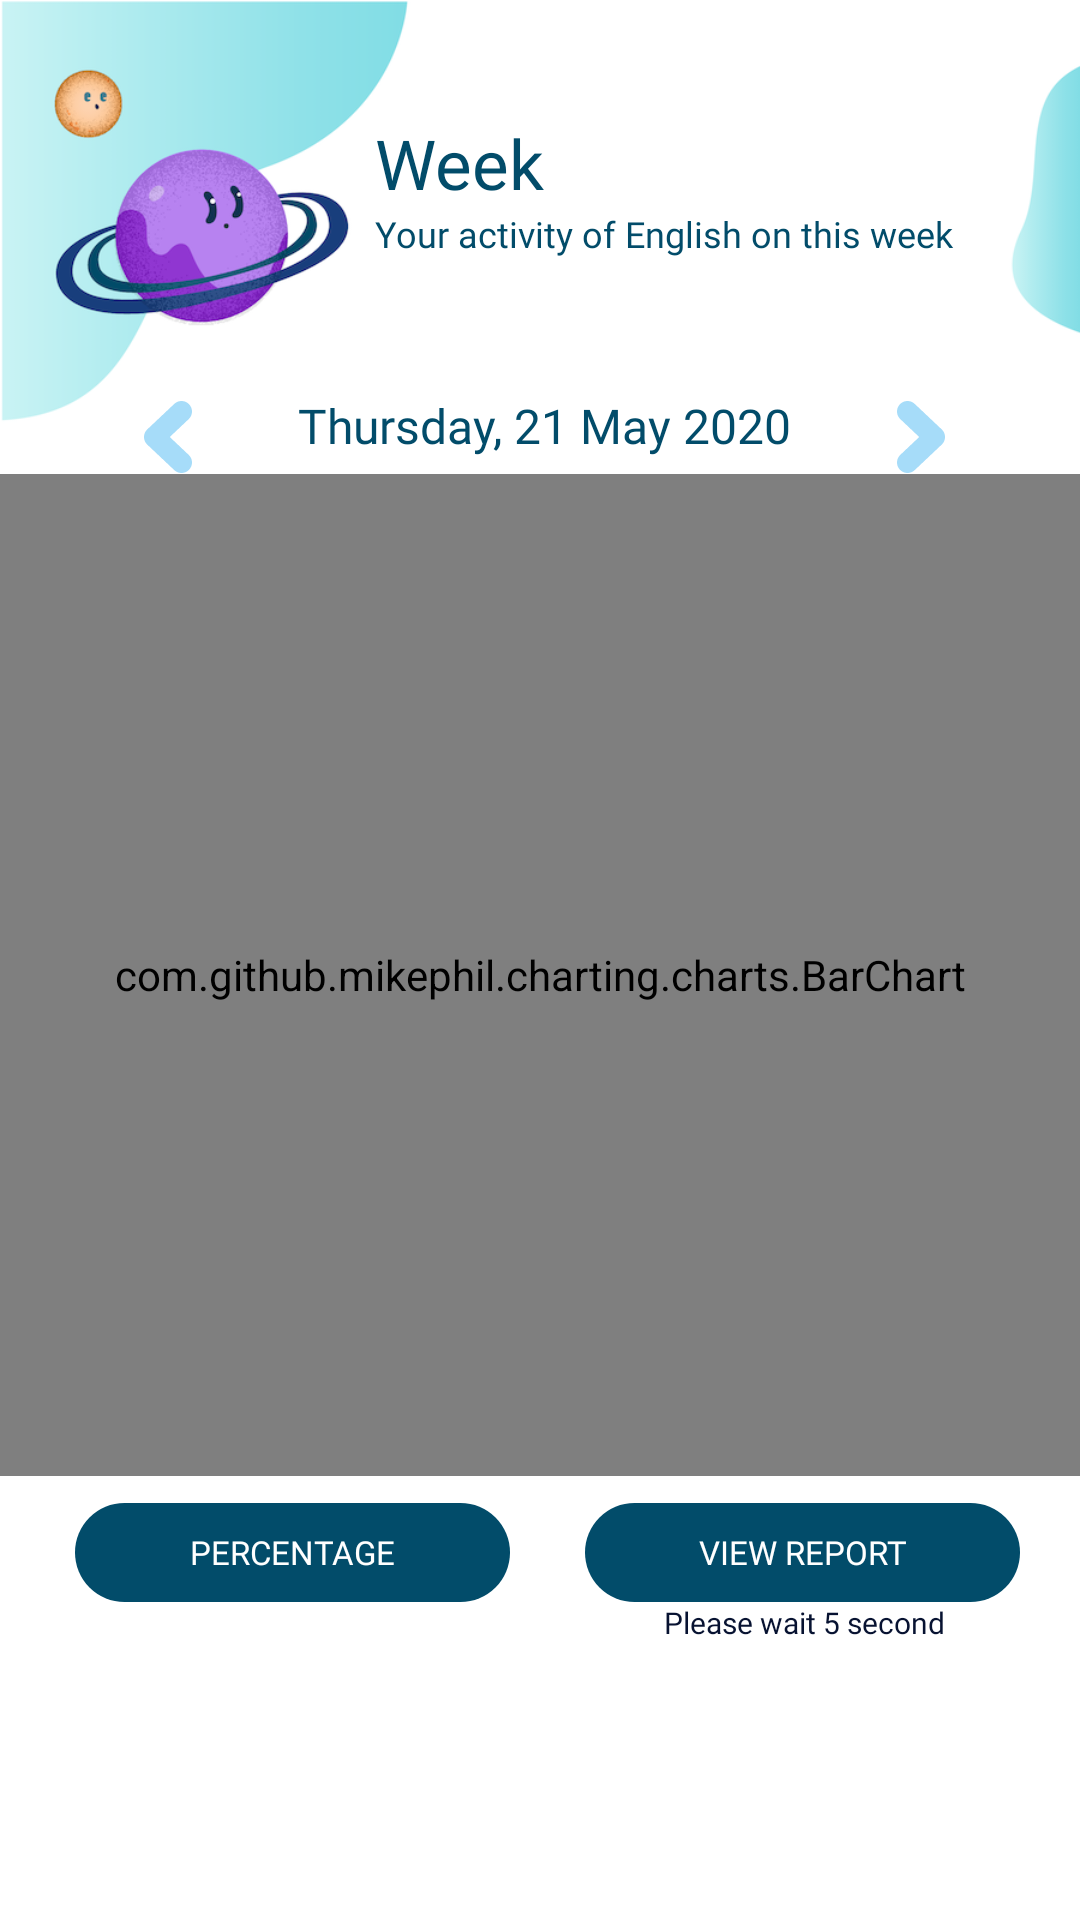

Screen size 1080w x 1920h. Icon name, then its box in pixels as (x1, y1, x2, y2):
left: (144, 401, 192, 473)
right: (897, 401, 945, 473)
